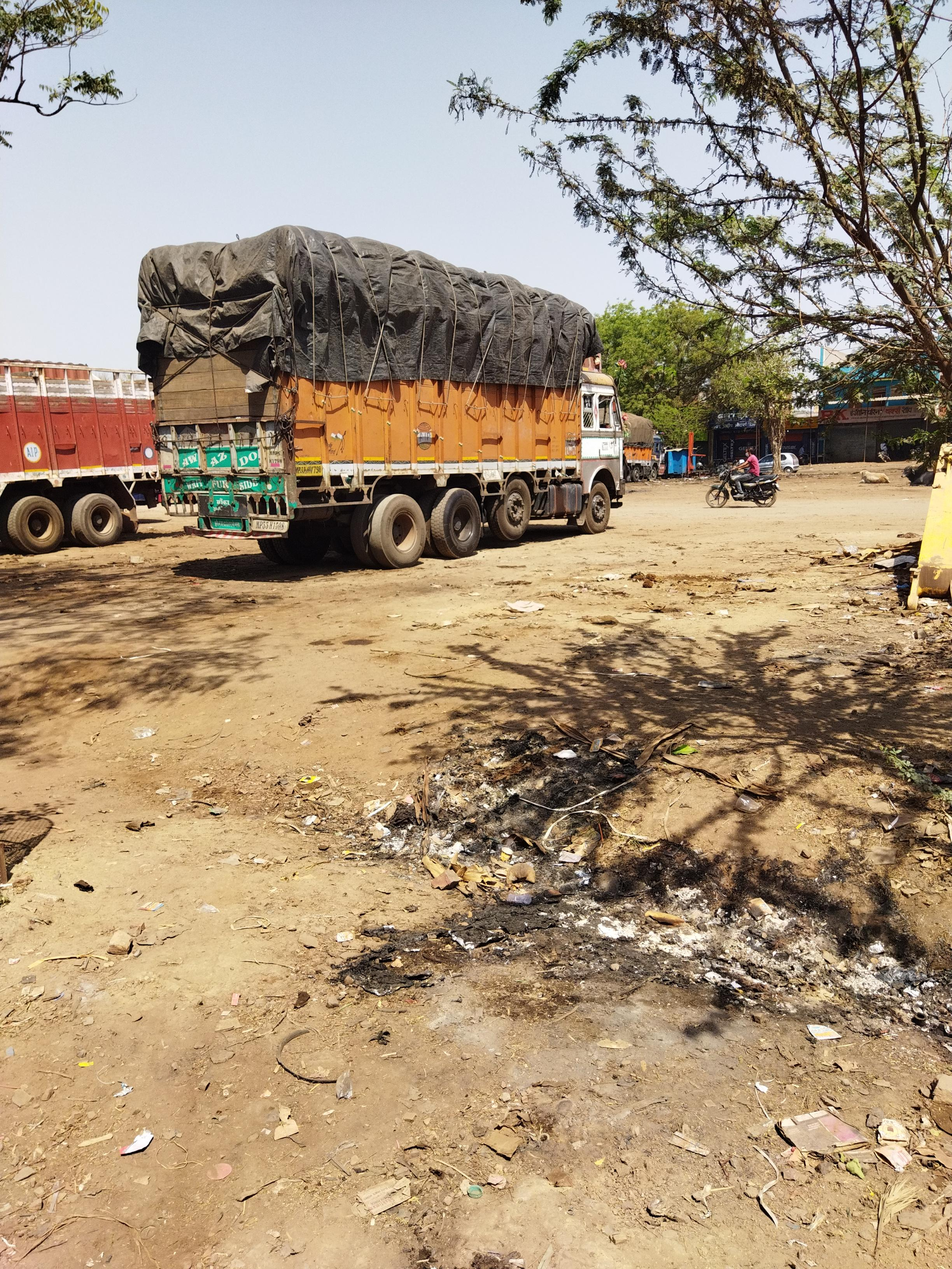Non-emergency: (118, 104, 685, 655)
